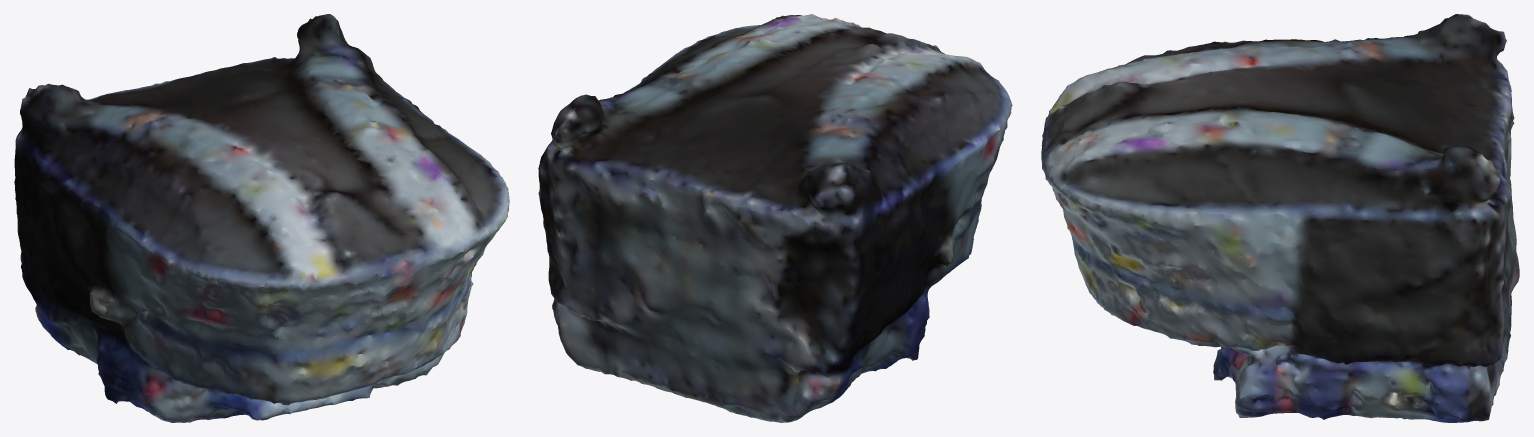
Rendered from backpack.glb.
3 views of the same model, side by side, from view 1: azimuth 30°, elevation 25°; view 2: azimuth 150°, elevation 25°; view 3: azimuth 270°, elevation 25° (orthographic). The views are drawn at different scales.
Size of the model in its own units: 0.8841 by 0.664 by 0.9951.
